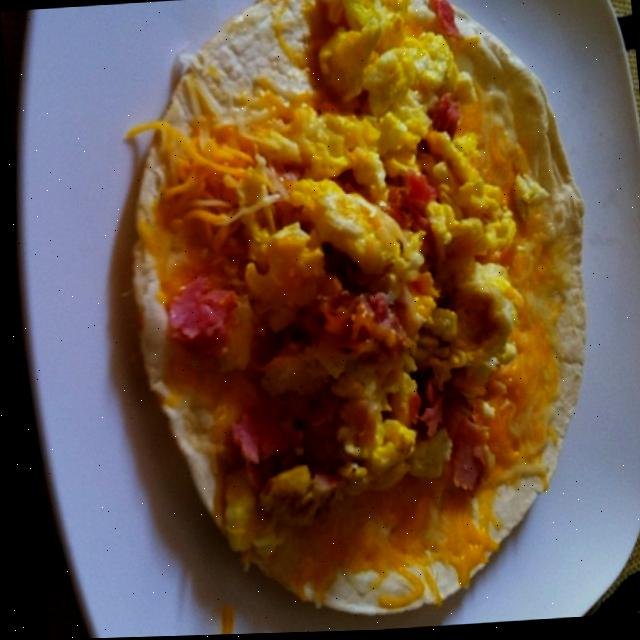面包点心: (55, 0, 640, 639)
